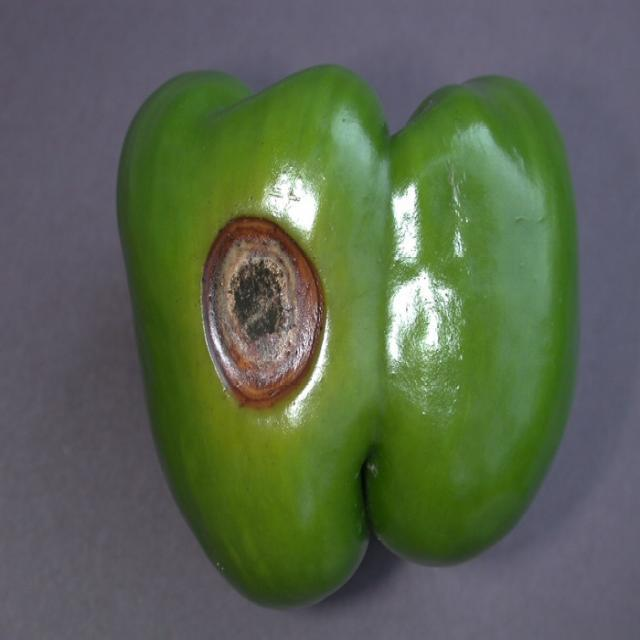Leaf_Mold: (196, 204, 332, 412)
